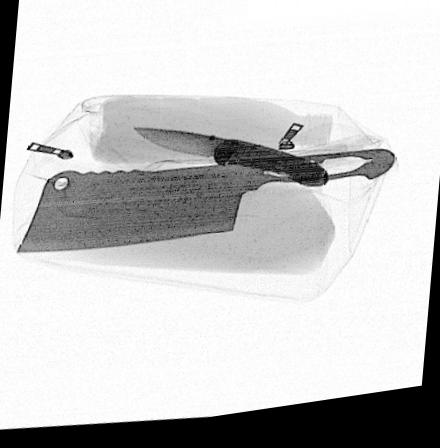Knife: (15, 160, 395, 254), (132, 130, 328, 197)
